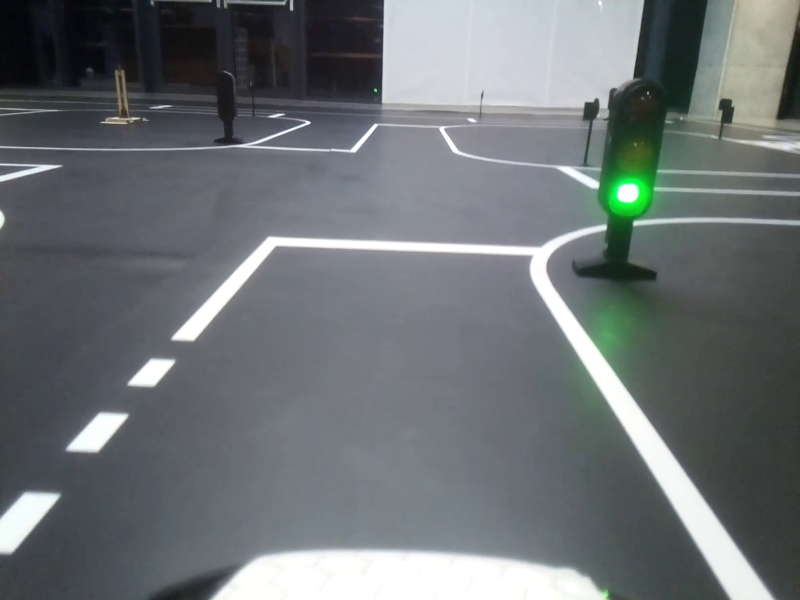traffic_green: (605, 79, 655, 220)
